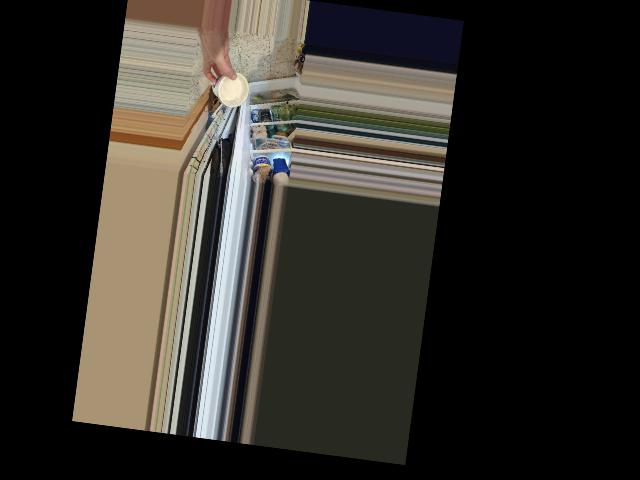cotage: (206, 70, 247, 109)
